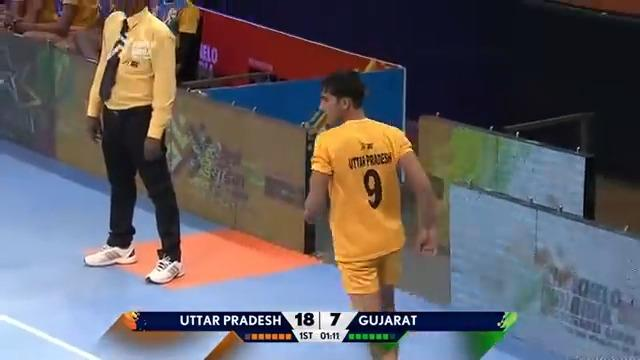Player: (302, 69, 438, 358)
referee: (82, 0, 185, 284)
